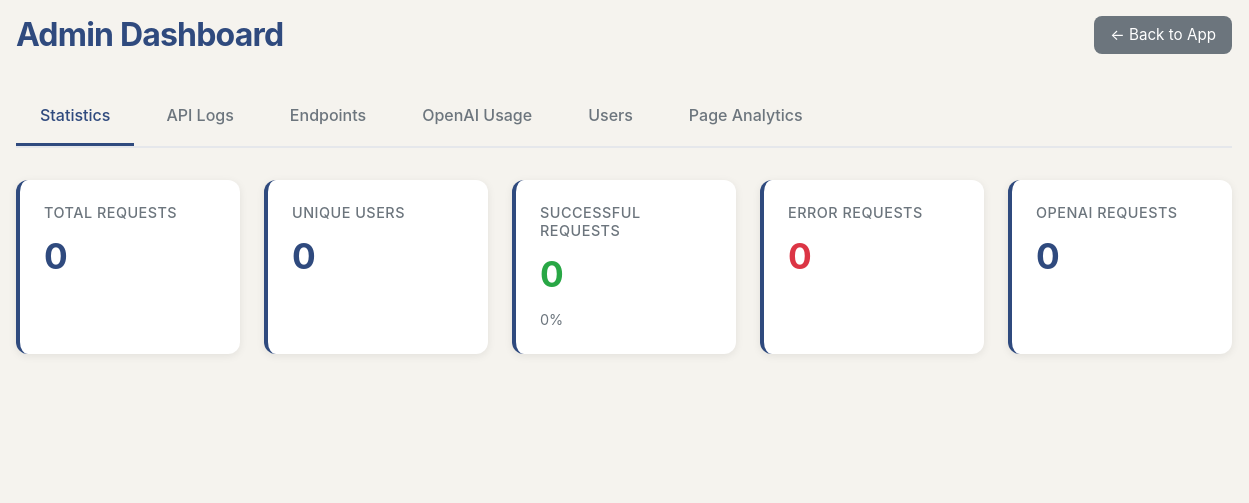
Test: AdminDashboard.vue › API Logs Tab › resets filters when reset button is clicked
Click the button "API Logs" at (200, 116), box left=142, top=87, right=258, bottom=146
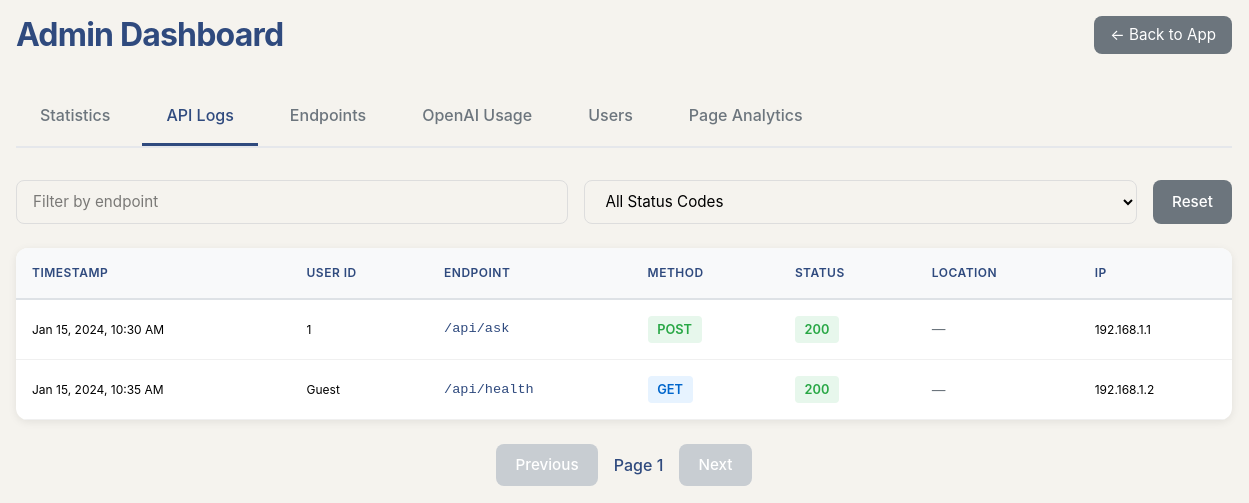
Type "/api/ask" into the field with placeholder "Filter by endpoint" at (292, 202), box left=16, top=180, right=568, bottom=224
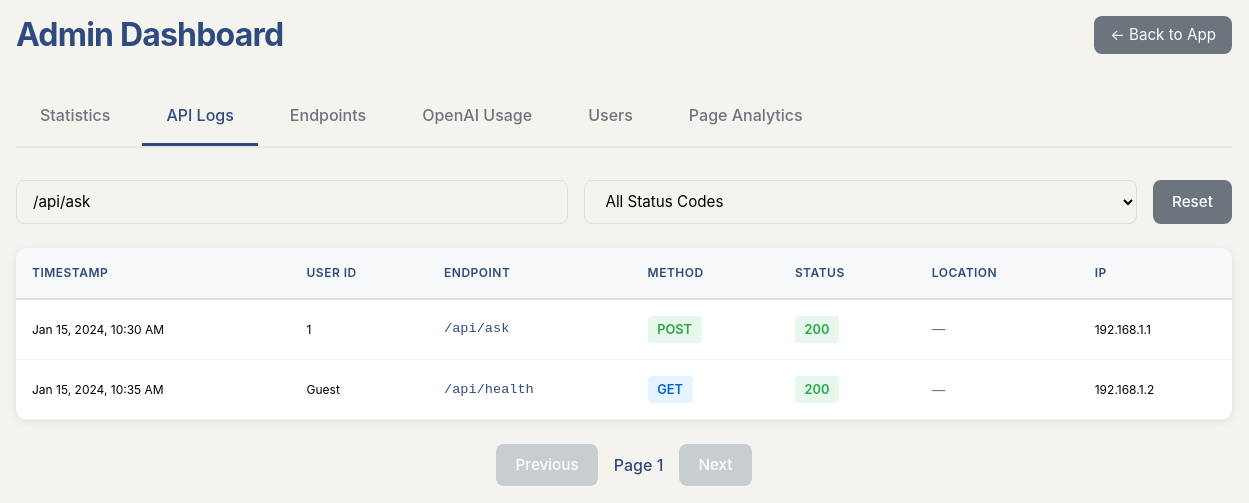
Click the button "Reset" at (1192, 202), box left=1153, top=180, right=1232, bottom=224
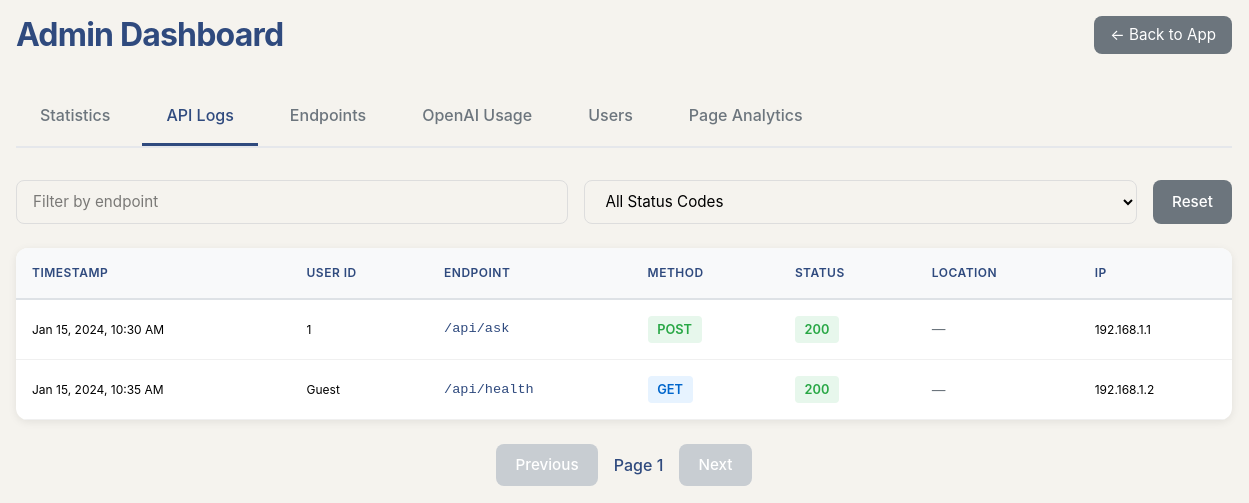
Now the field with placeholder "Filter by endpoint" is empty, box left=16, top=180, right=568, bottom=224
